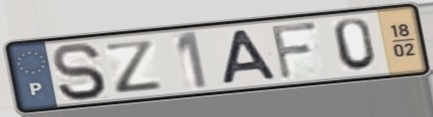0: (330, 16, 378, 74)
1: (172, 29, 210, 93)
A: (218, 28, 280, 86)
F: (268, 19, 321, 83)
S: (50, 41, 110, 103)
Z: (101, 37, 165, 95)
